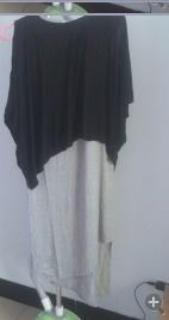vest: (21, 14, 115, 306)
vest dress: (5, 15, 134, 189)
